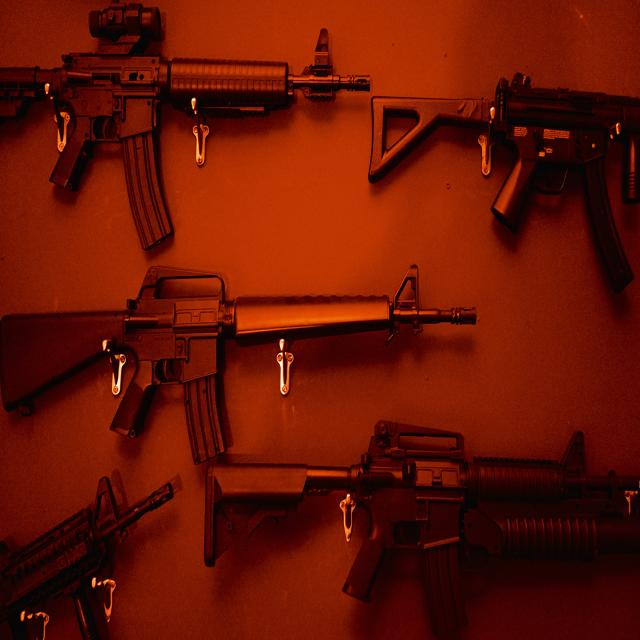Rifle: (201, 421, 640, 640), (0, 266, 480, 465), (0, 4, 372, 250)
SMG: (368, 75, 640, 294)
